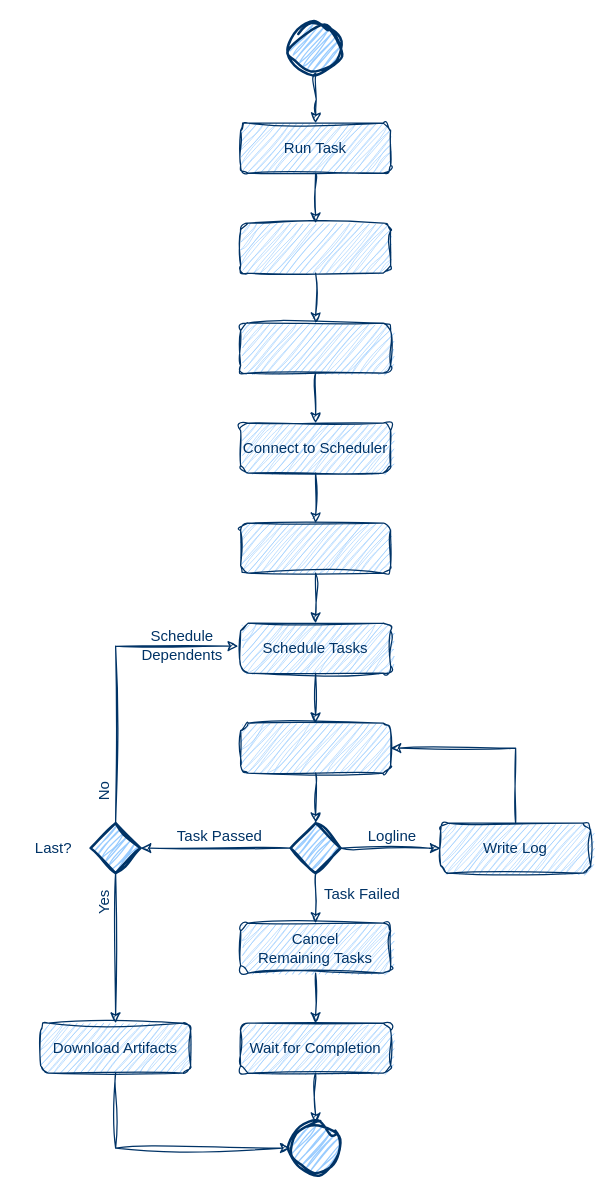
Image size: 613x1195. Some labels were removed from this diagram. The shapes that lost their labels are listed below. From the top down, each one's box as (x1, y1, x2, y2) in pixels, then its label:
(239, 222, 391, 273): Build Graph
(239, 322, 391, 373): Calculate SHA1s
(239, 522, 391, 573): Schedule Build
(239, 722, 391, 773): Receive Update
